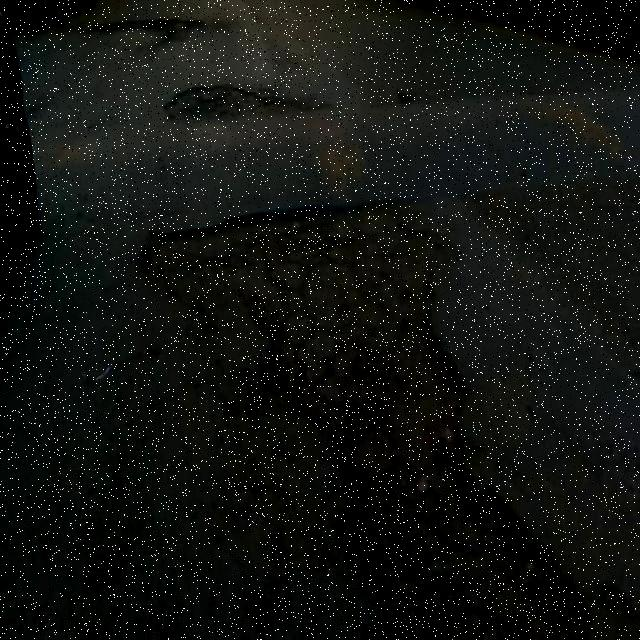pothole: (154, 204, 594, 640), (167, 90, 332, 117)
